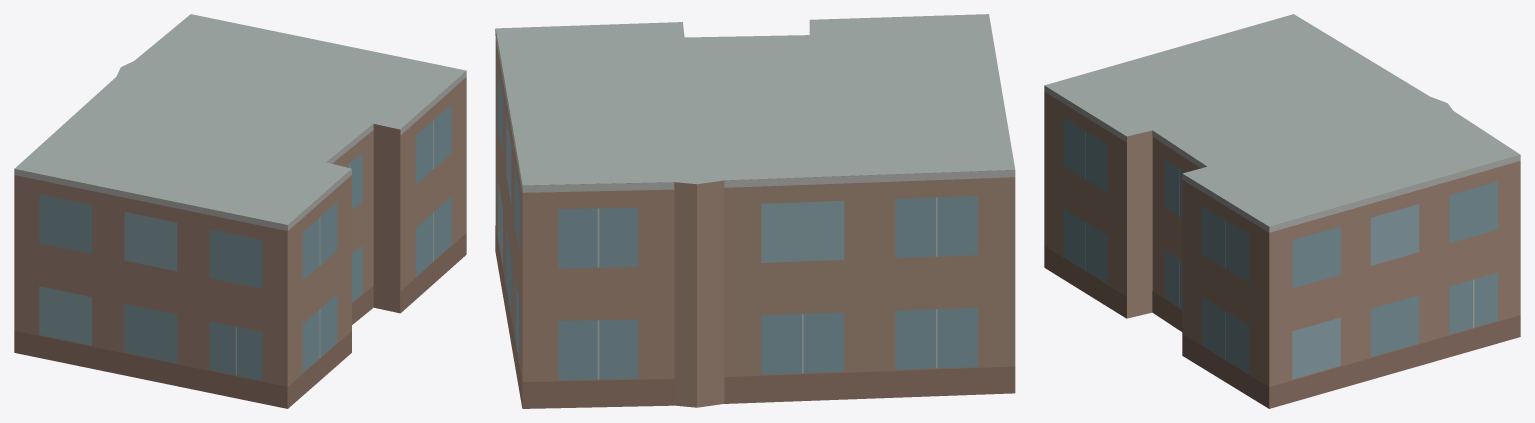
Rendered from survey-upis-32625127.glb.
3 renders of one model, left to right at view 1: azimuth 30°, elevation 25°; view 2: azimuth 150°, elevation 25°; view 3: azimuth 270°, elevation 25°, orthographic. The views are drawn at different scales.
Visible parts, largest first — view 1: survey-upis-32625127.tmp; view 2: survey-upis-32625127.tmp; view 3: survey-upis-32625127.tmp.
Boxes of the visible parts, x1,y1,x2,y2 form: survey-upis-32625127.tmp: [14, 14, 466, 408]; survey-upis-32625127.tmp: [495, 14, 1015, 408]; survey-upis-32625127.tmp: [1044, 14, 1520, 408].
Bounding box in the file's own units: 18.29 × 7.3 × 17.31.
